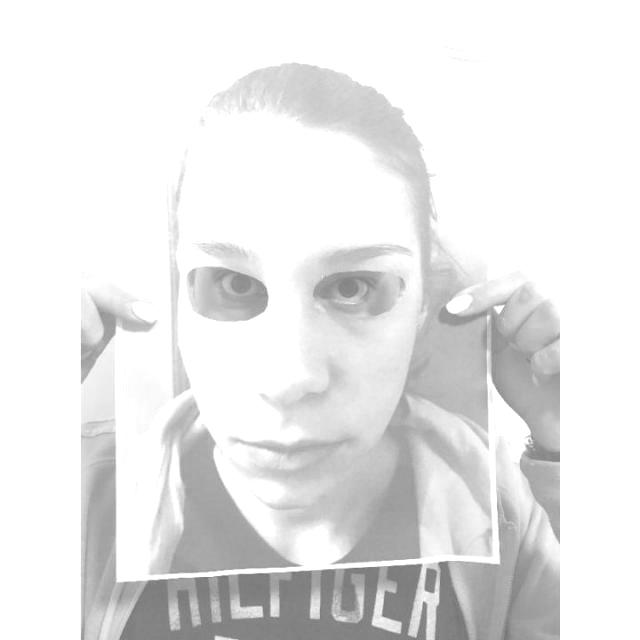fake: (106, 28, 516, 584)
